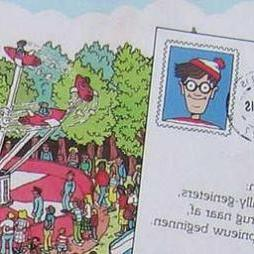waldos: (161, 56, 227, 129)
